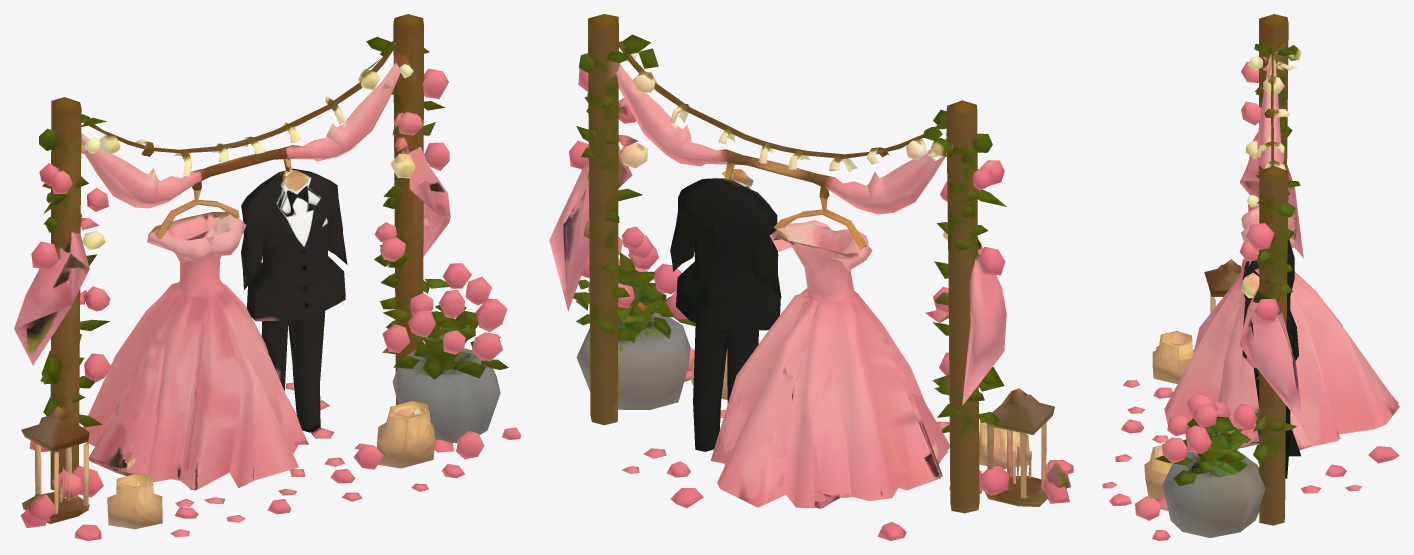
Rendered from dance.glb.
3 renders of one model, left to right at view 1: azimuth 30°, elevation 25°; view 2: azimuth 150°, elevation 25°; view 3: azimuth 270°, elevation 25°, orthographic. The views are drawn at different scales.
Parts seen in each view (by area): view 1: mesh_node; view 2: mesh_node; view 3: mesh_node.
Boxes of the visible parts, <box> form: mesh_node: <box>14,14,520,540</box>; mesh_node: <box>549,14,1073,540</box>; mesh_node: <box>1102,14,1399,540</box>.
Bounding box in the file's own units: 0.9883 × 0.793 × 0.5937.
Materials: 1 (1 with a texture image).
